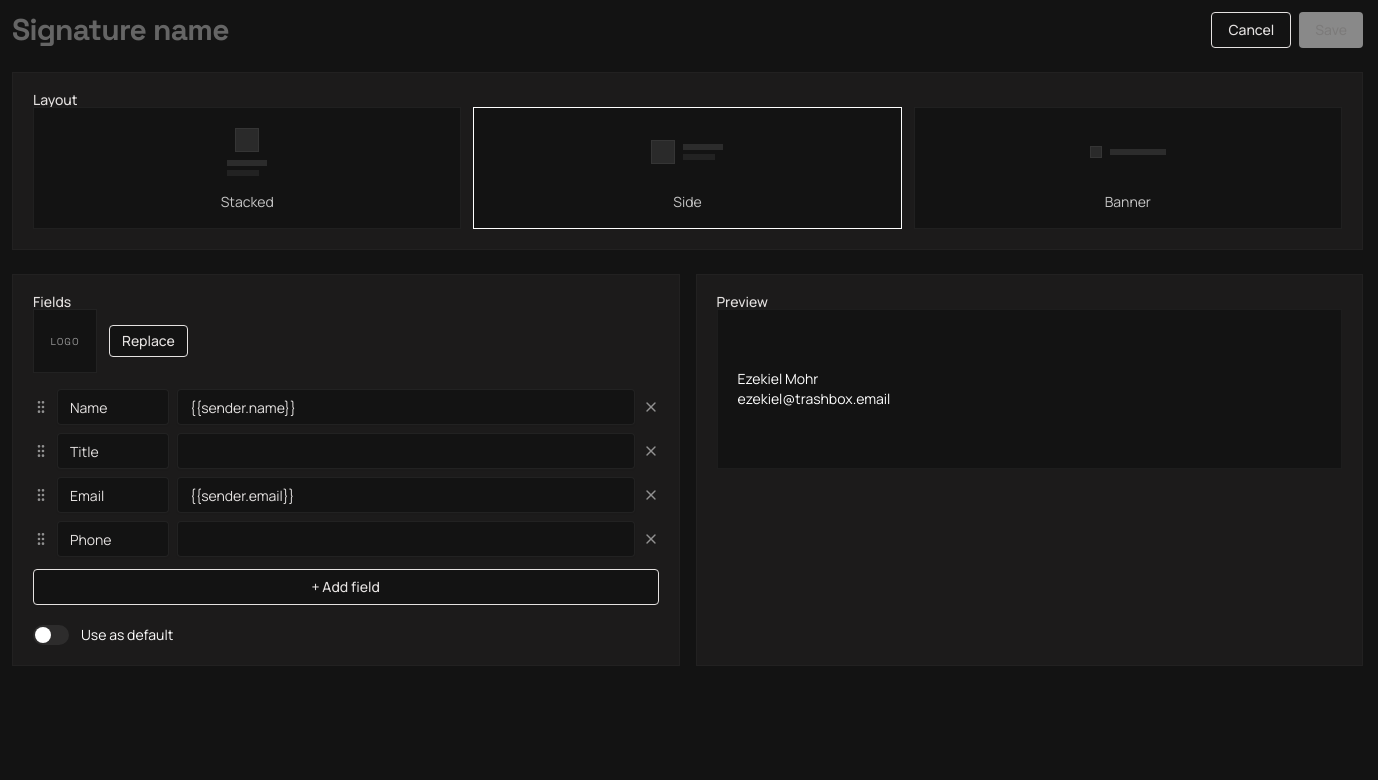
Test: SignatureBuilder › drops a removed field from the preview
This screenshot has width=1378, height=780.
Click the button named "remove email" at (650, 495), box [642, 487, 658, 503]
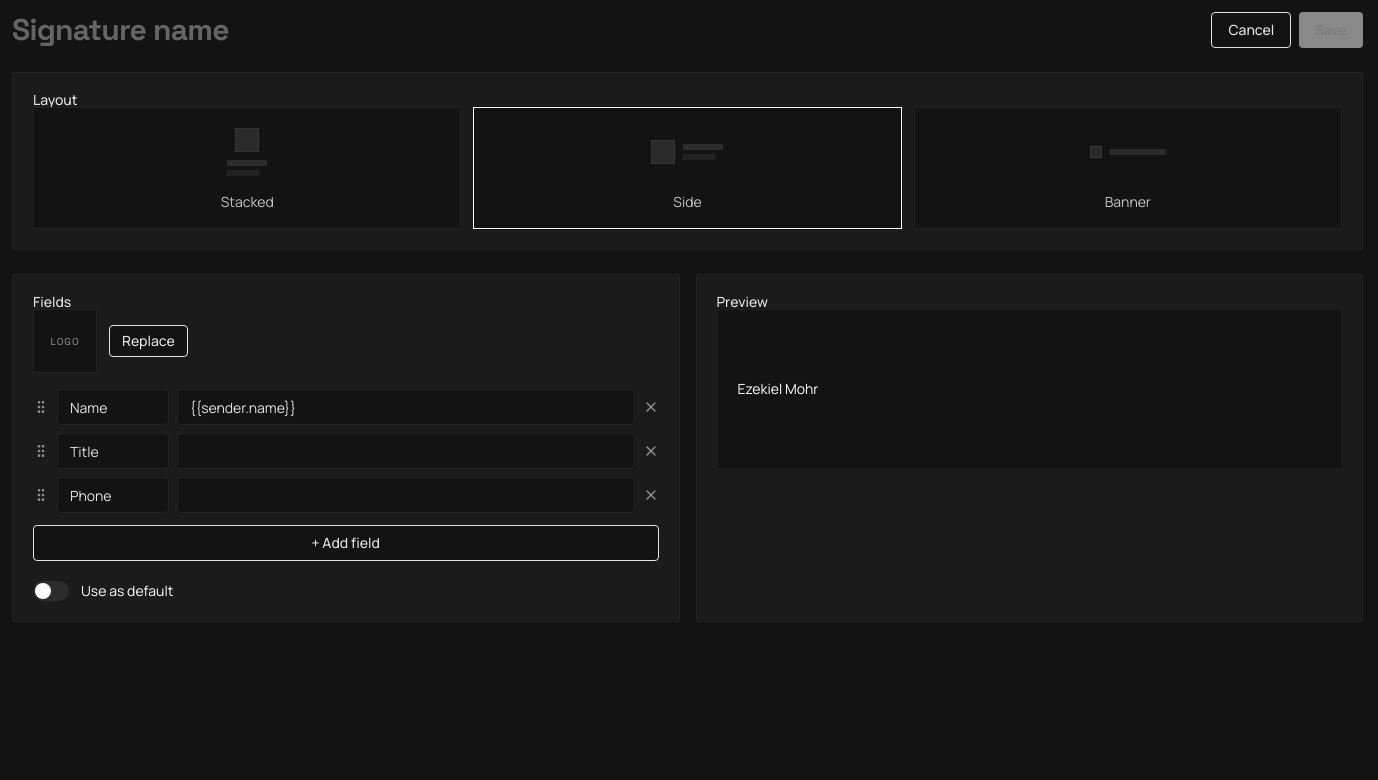
Expected: the element named "preview" no longer shows "ezekiel@trashbox.email", [716, 309, 1342, 469]
